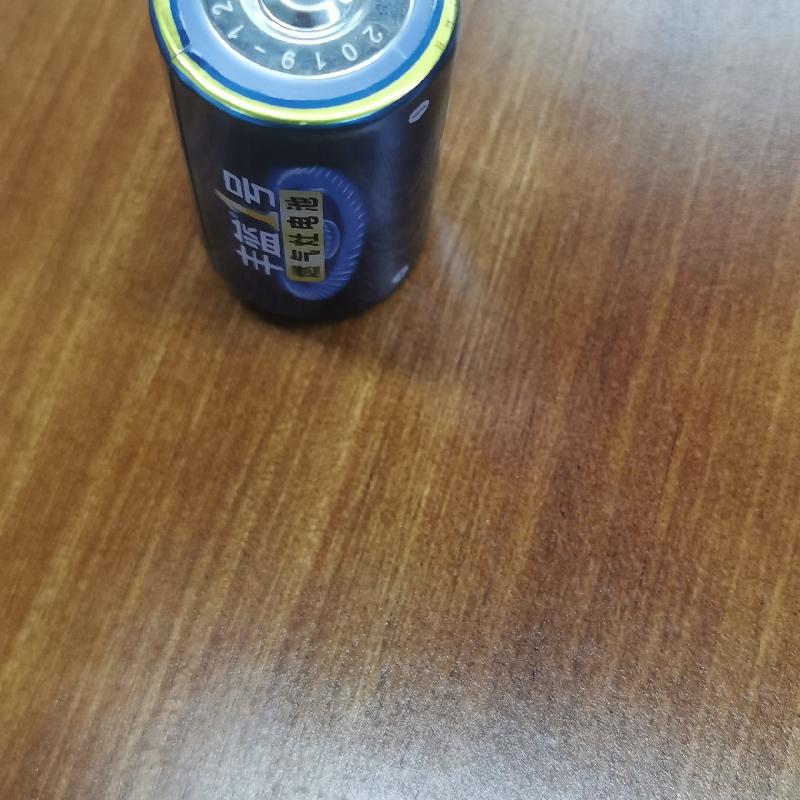battery: (139, 1, 460, 335)
